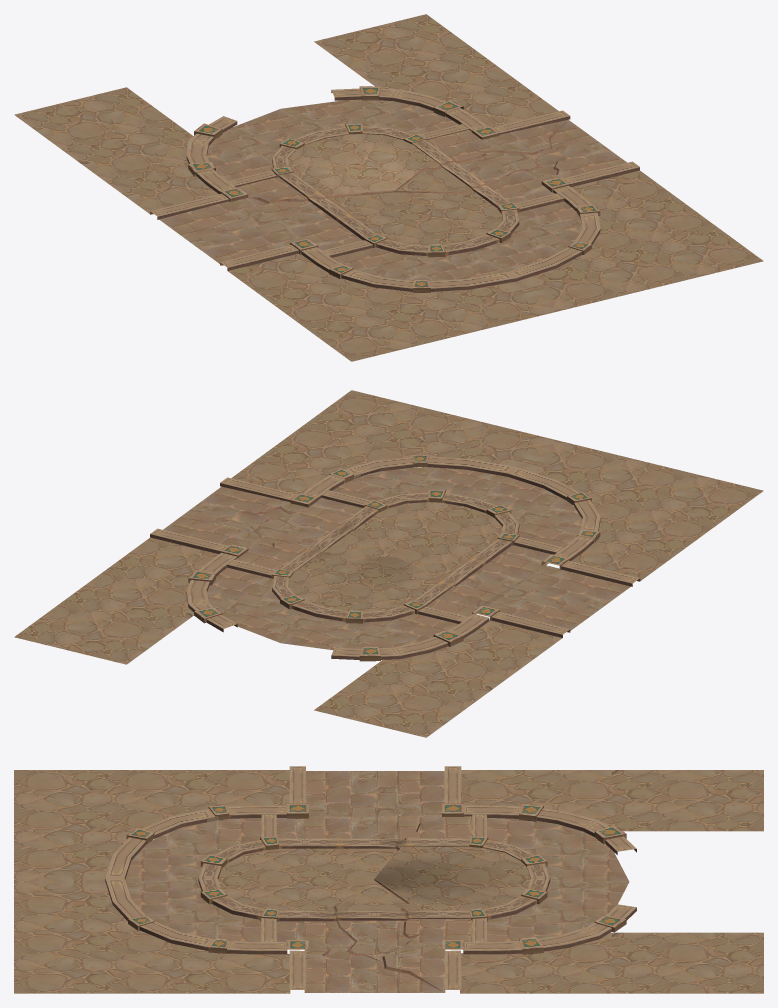
File: Map_11_brick03.FBX
3 renders of one model, top to bottom at view 1: azimuth 30°, elevation 25°; view 2: azimuth 150°, elevation 25°; view 3: azimuth 270°, elevation 25°, orthographic. The views are drawn at different scales.
Visible parts, largest first — view 1: Map_11_brick03; view 2: Map_11_brick03; view 3: Map_11_brick03.
Boxes of the visible parts, x1=… form: Map_11_brick03: x1=14, y1=14, x2=763, y2=361; Map_11_brick03: x1=14, y1=390, x2=763, y2=737; Map_11_brick03: x1=14, y1=766, x2=763, y2=993.
Bounding box in the file's own units: 3090 × 4377 × 38.13.
